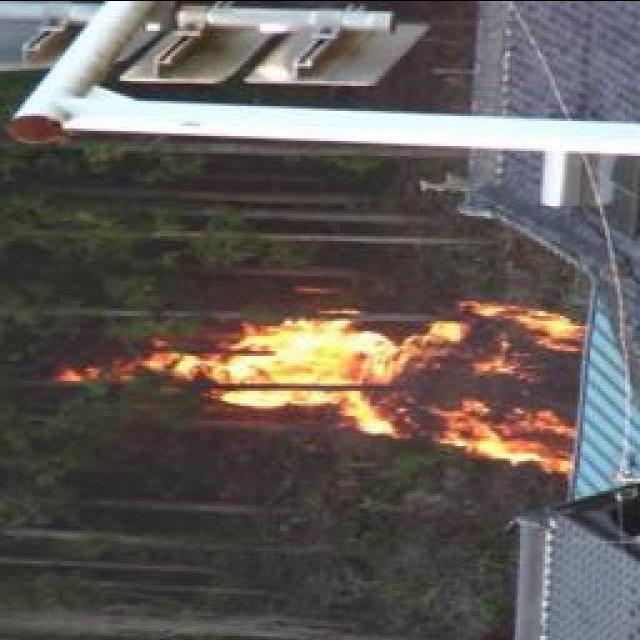Fire: (216, 296, 582, 466)
